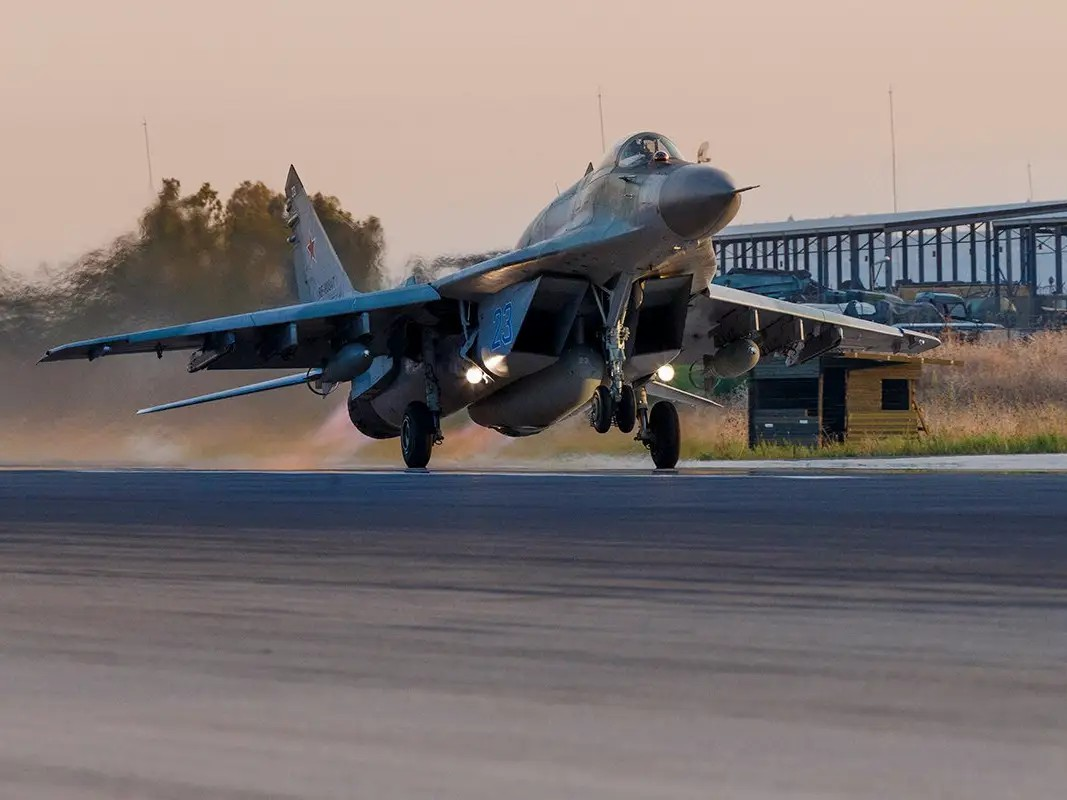Mig-29: (42, 63, 955, 531)
